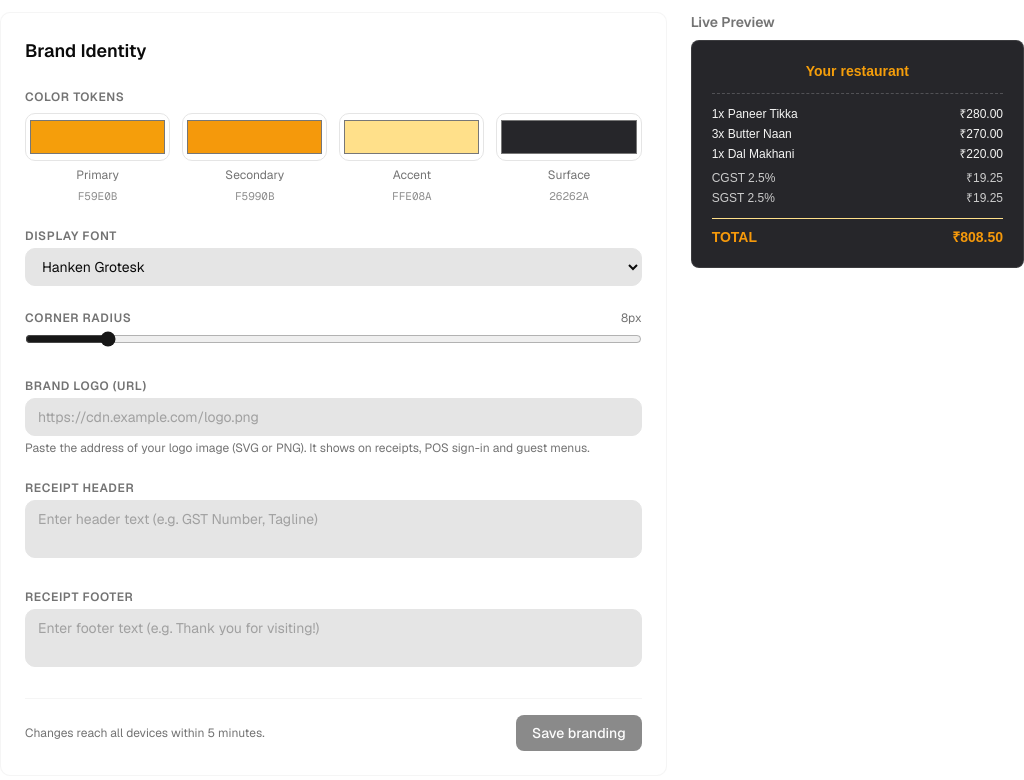
Scenario: BrandingEditor › keeps Save disabled until something actually changes, then saves the flat token shape and toasts success
This screenshot has width=1024, height=780.
Check: the button with test id "branding-save" is disabled, box [516,715,642,751]
In the text box with test id "branding-receipt-footer": (333, 638) [25,609,642,667], type "Thanks!"
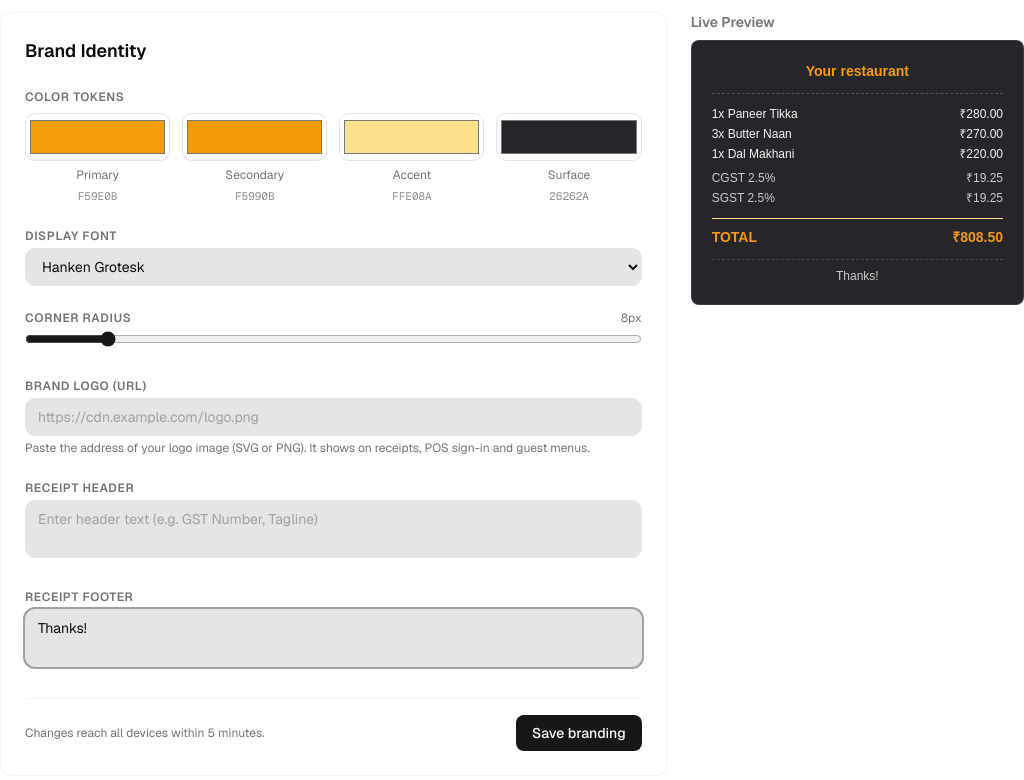
Check: the button with test id "branding-save" is enabled
Click the button with test id "branding-save": (579, 733) [516,715,642,751]
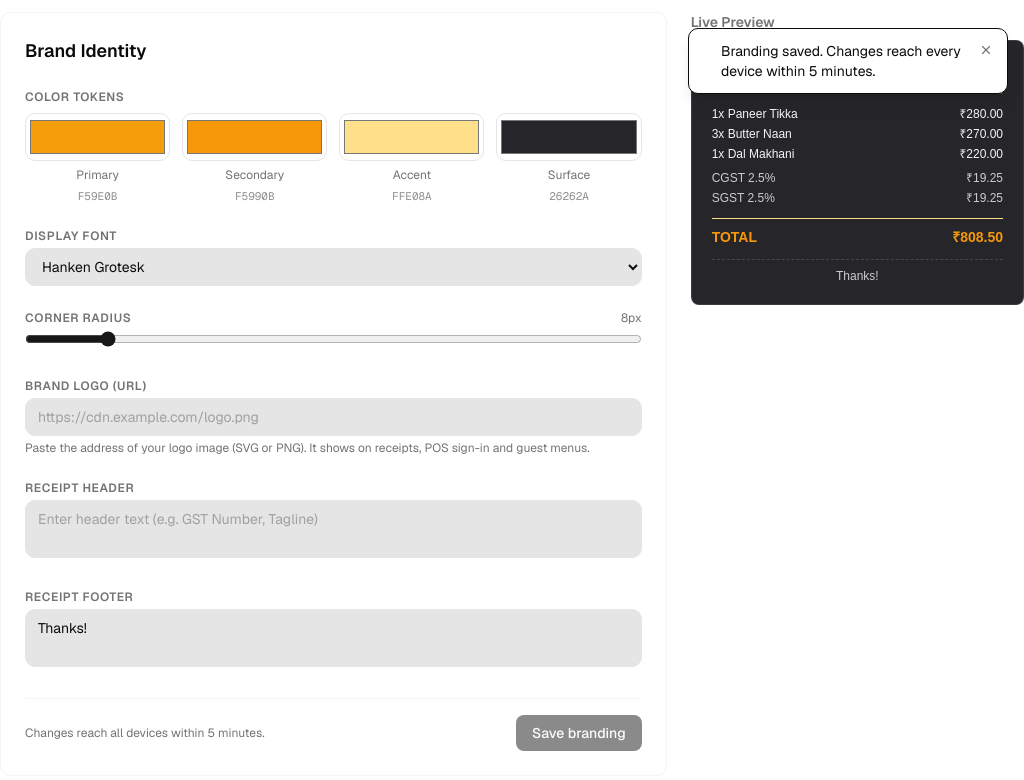
Check: the button with test id "branding-save" is disabled, box [516,715,642,751]
Check: the element with test id "toast-success" shows "reach every device within 5 minutes", box [721,42,961,80]
